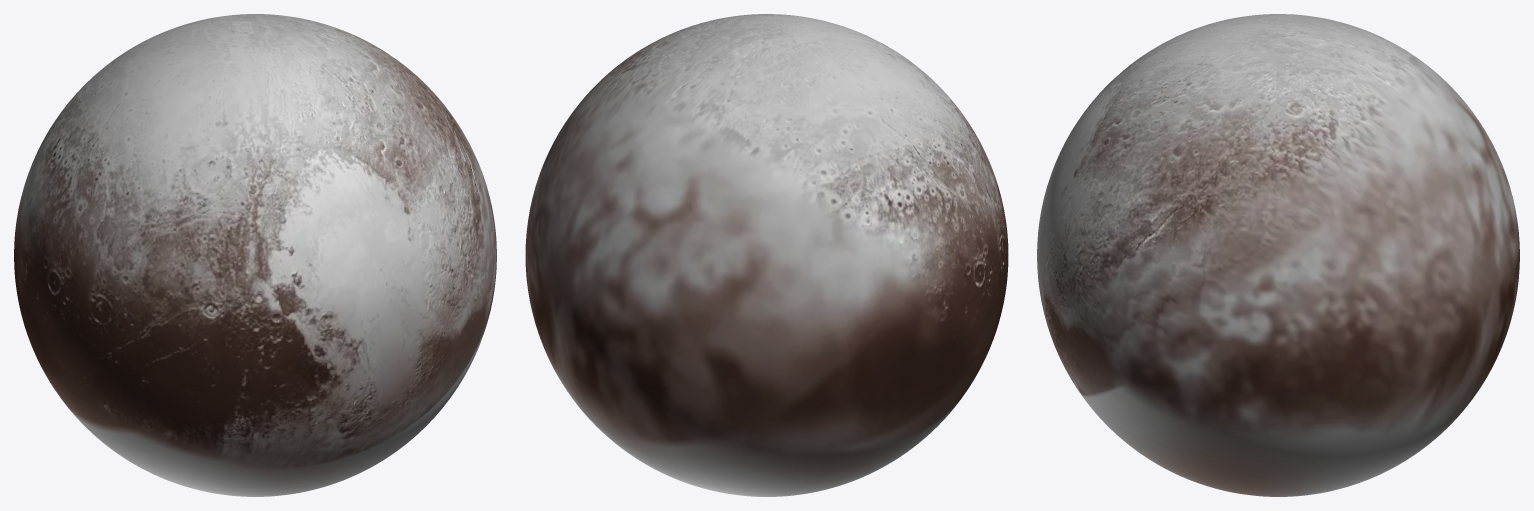
Rendered from pluto.glb.
3 views of the same model, side by side, from view 1: azimuth 30°, elevation 25°; view 2: azimuth 150°, elevation 25°; view 3: azimuth 270°, elevation 25° (orthographic).
Parts seen in each view (by area): view 1: cylindrically_mapped_sphere; view 2: cylindrically_mapped_sphere; view 3: cylindrically_mapped_sphere.
Part boxes in pixels (bbox=[...]): cylindrically_mapped_sphere: bbox=[14, 14, 496, 496]; cylindrically_mapped_sphere: bbox=[525, 14, 1008, 496]; cylindrically_mapped_sphere: bbox=[1037, 14, 1519, 496].
Bounding box in the file's own units: 1000 × 1000 × 1000.
1 material, 1 textured.
